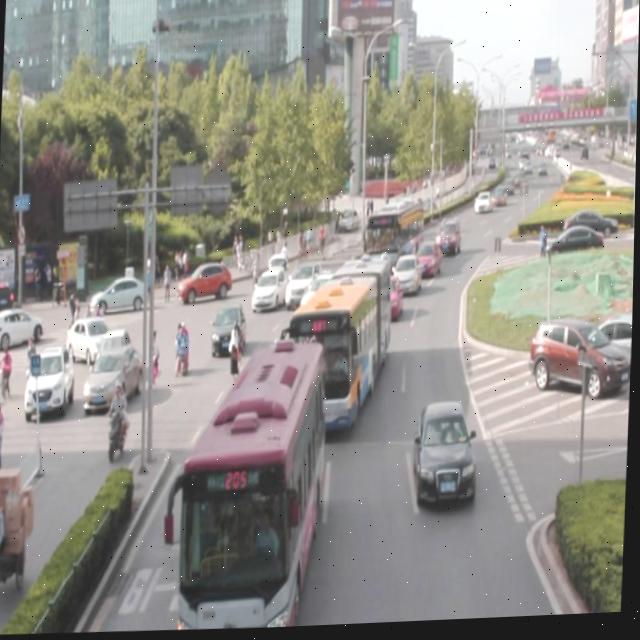car: (416, 404, 477, 507), (255, 337, 306, 405), (297, 274, 349, 322), (284, 261, 325, 309), (211, 304, 248, 357), (251, 266, 289, 314), (372, 271, 404, 327), (392, 255, 422, 298), (413, 242, 442, 281), (435, 221, 460, 258)
van: (181, 346, 323, 633), (286, 261, 389, 436), (365, 201, 424, 262)
